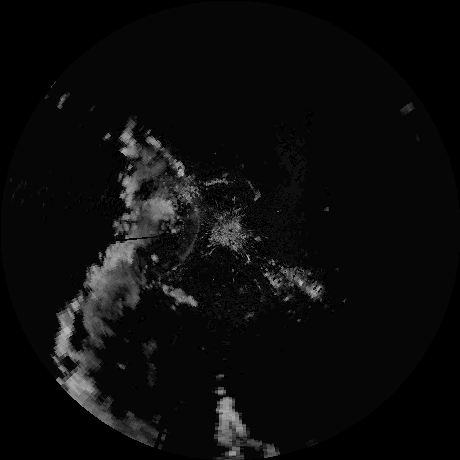frontgust: (176, 209, 203, 263)
